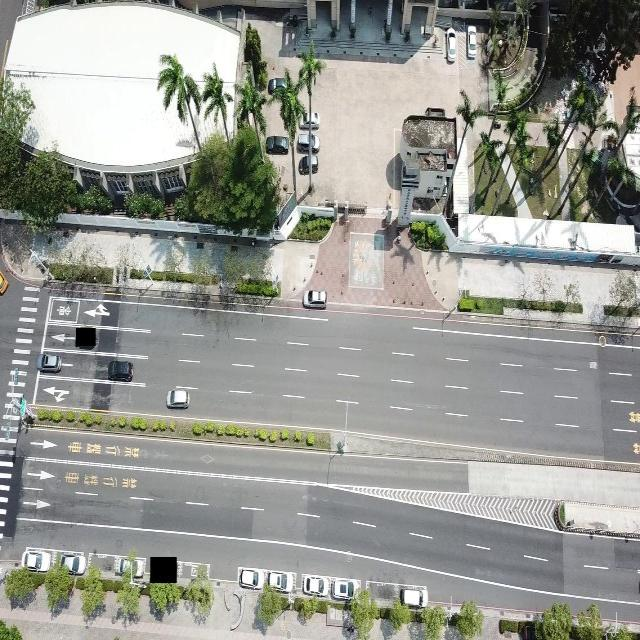car: (399, 582, 427, 610), (331, 576, 356, 601), (238, 565, 264, 589), (22, 550, 50, 572), (301, 572, 326, 596), (107, 359, 133, 382), (59, 554, 86, 575), (117, 557, 144, 578), (267, 568, 291, 591), (166, 387, 189, 410), (38, 351, 62, 373), (444, 26, 458, 62), (304, 288, 326, 310), (297, 132, 320, 153), (298, 110, 322, 130), (267, 76, 292, 95), (265, 135, 289, 154), (466, 23, 479, 58), (423, 103, 449, 120), (298, 155, 318, 174), (0, 269, 9, 297)
